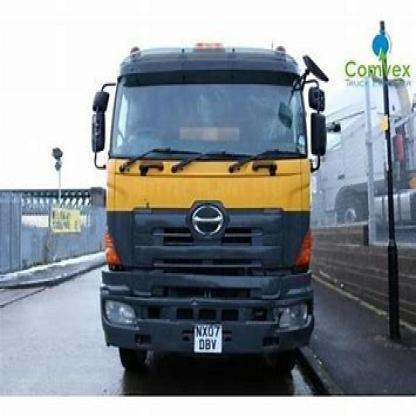dump_truck: (82, 29, 335, 398)
